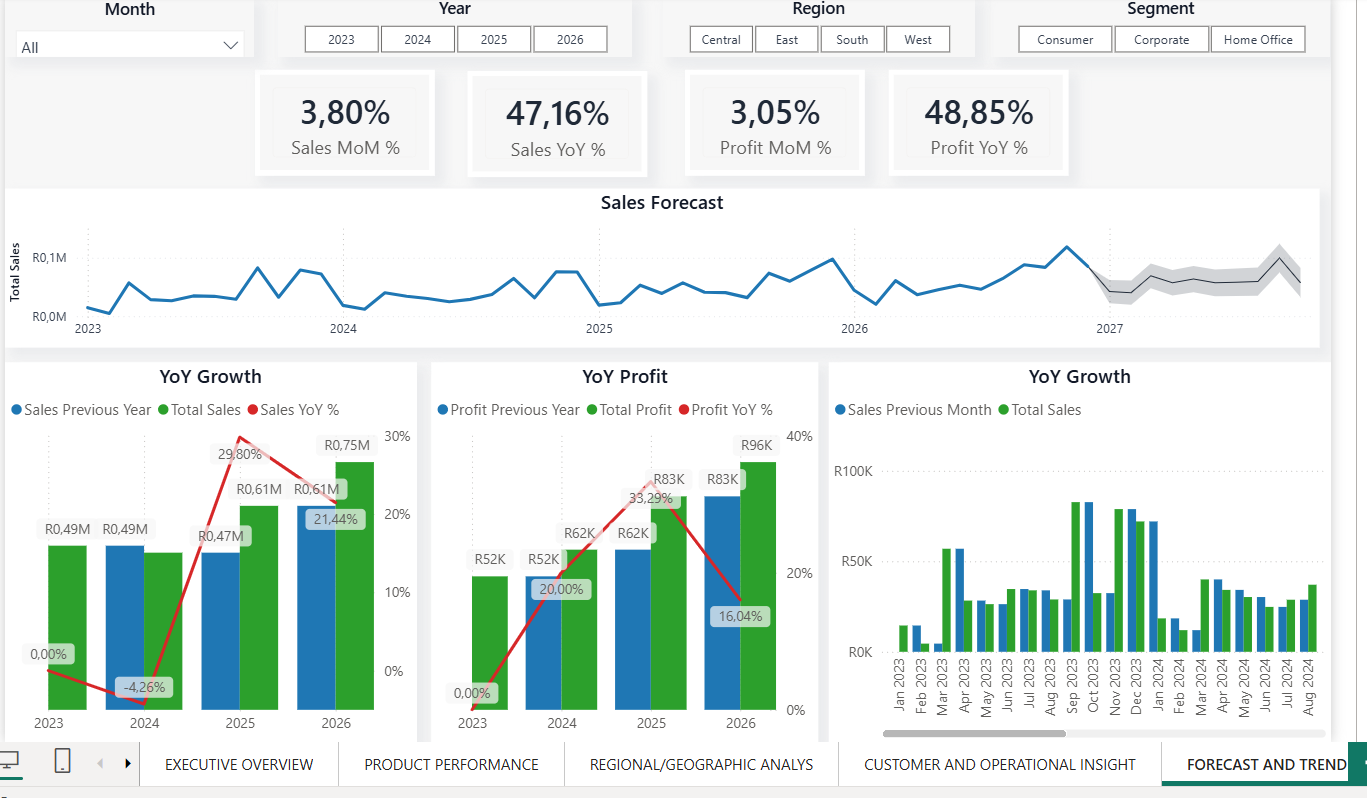

The page's visual inventory and layout, read from the dashboard file:
{"tool":"powerbi","page":{"name":"FORECAST AND TREND ANALYSIS","canvas":[1280,720],"ordinal":4},"visuals":[{"type":"slicer","title":"Year","fields":{"Values":["DateTable.Year"]},"box":[263,0,342.5,58.9],"z":0},{"type":"slicer","title":"Region","fields":{"Values":["Orders.Region"]},"box":[634.2,0,301.4,58.9],"z":1000},{"type":"slicer","title":"Segment","fields":{"Values":["Orders.Segment"]},"box":[952.1,0,327.4,58.9],"z":2000},{"type":"cardVisual","fields":{"Data":["Orders.Sales MoM %"]},"box":[241.1,71.2,174,102.7],"z":3000},{"type":"cardVisual","fields":{"Data":["Orders.Sales YoY %"]},"box":[446.6,72.6,174,102.7],"z":4000},{"type":"cardVisual","fields":{"Data":["Orders.Profit MoM %"]},"box":[656.2,71.2,174,102.7],"z":5000},{"type":"cardVisual","fields":{"Data":["Orders.Profit YoY %"]},"box":[853.4,71.2,174,102.7],"z":6000},{"type":"lineChart","title":"Sales Forecast","fields":{"Y":["Orders.Total Sales"],"Category":["DateTable.Date.Variation.Date Hierarchy.Year","DateTable.Date.Variation.Date Hierarchy.Month"]},"box":[0,186.3,1268.5,153.4],"z":7000},{"type":"lineClusteredColumnComboChart","title":"YoY Growth","fields":{"Category":["DateTable.Year"],"Y":["Orders.Sales Previous Year","Orders.Total Sales"],"Y2":["Orders.Sales YoY %"]},"box":[0,353.4,397.3,367.1],"z":8000},{"type":"slicer","title":"Month","fields":{"Values":["DateTable.Month"]},"box":[0,1.4,241.1,57.5],"z":9000},{"type":"lineClusteredColumnComboChart","title":"YoY Profit","fields":{"Category":["DateTable.Year"],"Y":["Orders.Profit Previous Year","Orders.Total Profit"],"Y2":["Orders.Profit YoY %"]},"box":[411,353.4,374,367.1],"z":10000},{"type":"lineClusteredColumnComboChart","title":"YoY Growth","fields":{"Category":["DateTable.Month Year"],"Y":["Orders.Sales Previous Month","Orders.Total Sales"]},"box":[794.5,353.4,484.9,367.1],"z":10001}]}

Visuals, with their boxes on the page's 1280x720 design canvas (x1, y1, x2, y2). These are canvas units, not pixel positions in the 1367x798 screenshot, which may show the page scaled, cropped or inside an application window:
"Year" slicer: Rect(263, 0, 606, 59)
"Region" slicer: Rect(634, 0, 936, 59)
"Segment" slicer: Rect(952, 0, 1280, 59)
cardVisual - Orders.Sales MoM %: Rect(241, 71, 415, 174)
cardVisual - Orders.Sales YoY %: Rect(447, 73, 621, 175)
cardVisual - Orders.Profit MoM %: Rect(656, 71, 830, 174)
cardVisual - Orders.Profit YoY %: Rect(853, 71, 1027, 174)
"Sales Forecast" lineChart: Rect(0, 186, 1268, 340)
"YoY Growth" lineClusteredColumnComboChart: Rect(0, 353, 397, 720)
"Month" slicer: Rect(0, 1, 241, 59)
"YoY Profit" lineClusteredColumnComboChart: Rect(411, 353, 785, 720)
"YoY Growth" lineClusteredColumnComboChart: Rect(794, 353, 1279, 720)
